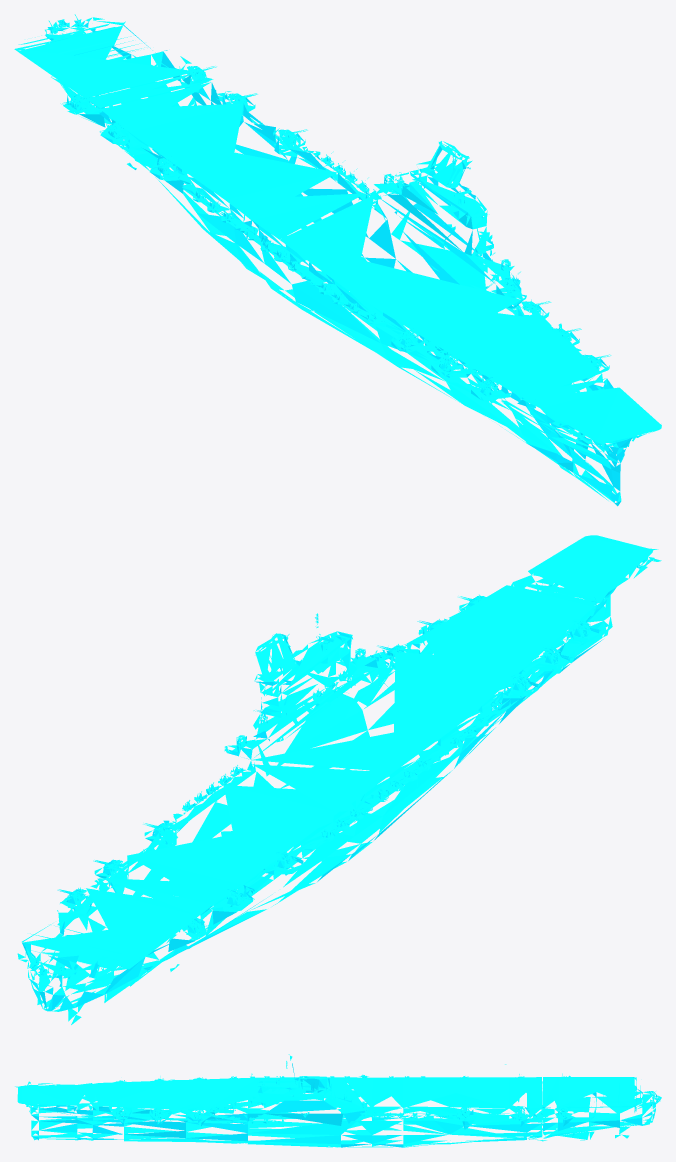
File: PJSA017.glb
The picture shows the model from 3 angles, top to bottom: view 1: azimuth 30°, elevation 25°; view 2: azimuth 150°, elevation 25°; view 3: azimuth 270°, elevation 25°; orthographic projection. The views are drawn at different scales.
Visible parts, largest first — view 1: hull_mid, hull_stern, hull_bow, secondary_battery, aa_mount; view 2: hull_mid, hull_stern, hull_bow, secondary_battery, aa_mount, superstructure; view 3: hull_mid, hull_stern, hull_bow, secondary_battery, aa_mount, superstructure.
Part boxes in pixels (bbox=[...]): hull_mid: bbox=[91, 82, 609, 467]; hull_stern: bbox=[14, 17, 213, 158]; hull_bow: bbox=[522, 378, 661, 506]; secondary_battery: bbox=[60, 66, 611, 395]; aa_mount: bbox=[47, 14, 520, 310]; hull_mid: bbox=[90, 580, 599, 972]; hull_stern: bbox=[17, 877, 211, 1024]; hull_bow: bbox=[513, 535, 661, 673]; secondary_battery: bbox=[57, 594, 601, 933]; aa_mount: bbox=[29, 647, 488, 975]; superstructure: bbox=[236, 613, 500, 800]; hull_mid: bbox=[88, 1054, 548, 1147]; hull_stern: bbox=[541, 1075, 661, 1140]; hull_bow: bbox=[15, 1081, 92, 1140]; secondary_battery: bbox=[116, 1073, 567, 1119]; aa_mount: bbox=[214, 1073, 659, 1121]; superstructure: bbox=[229, 1061, 368, 1108].
Size of the model in its own units: 3.48 by 3.38 by 19.27.
